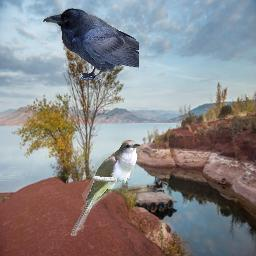Crow: (43, 8, 139, 80)
Cuckoo: (70, 140, 140, 236)
